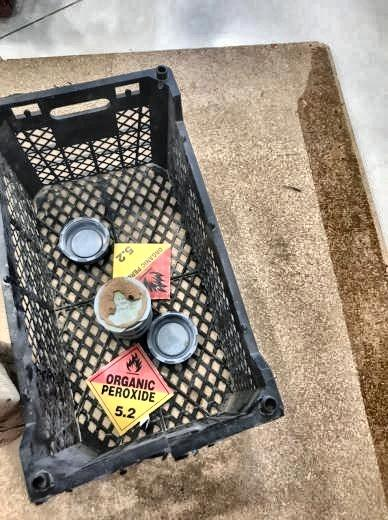organic-peroxide: (87, 346, 172, 436), (111, 241, 174, 303)
